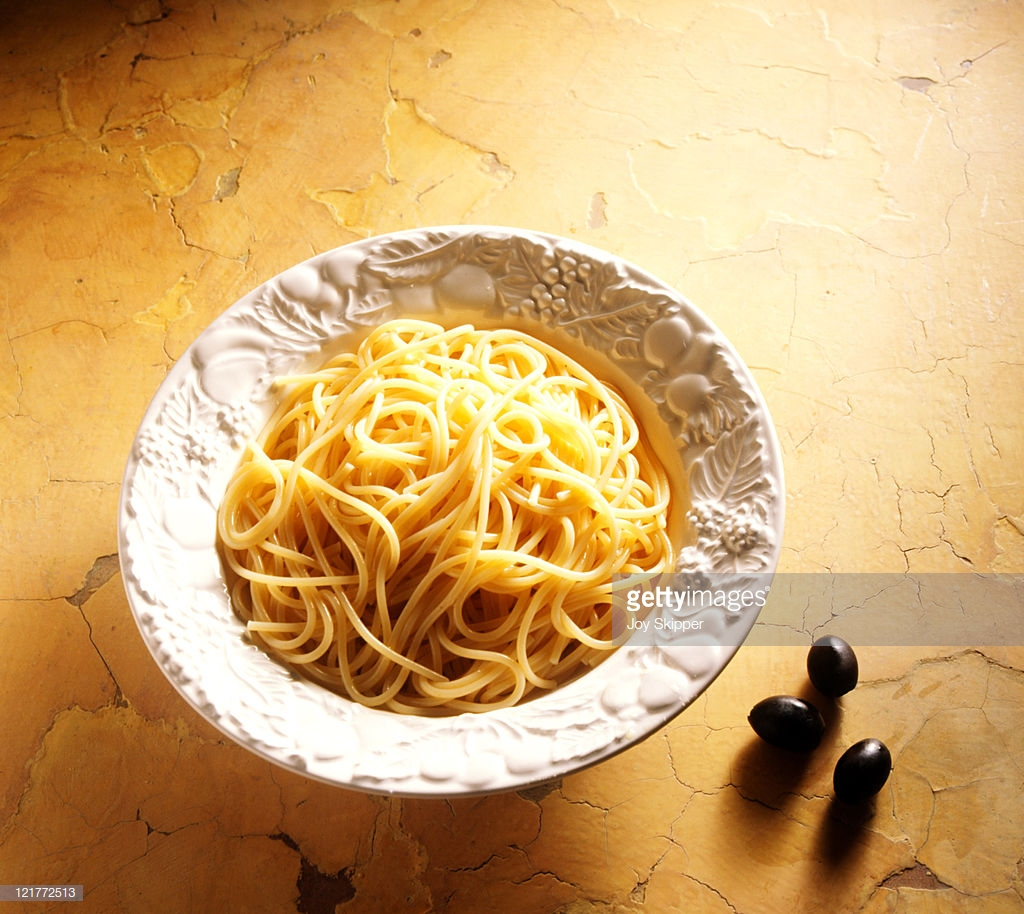plain spaghetti: (240, 367, 519, 634)
